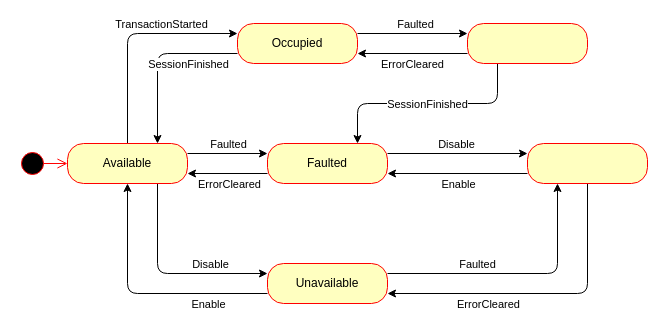
Some shapes in this 665 by 327 pixel diagram are drawn without their labels. Here are the shapes that lost their labels. From the top down, the box of each, then its label:
(466, 22, 588, 64): FaultedOccupied
(526, 142, 648, 184): UnavailableFaulted
